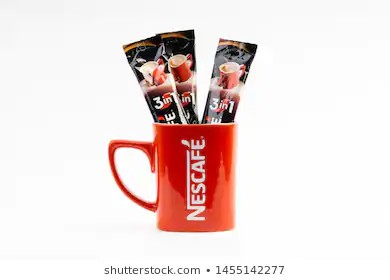nescafe-caffe: (123, 34, 188, 121), (199, 37, 257, 124), (161, 27, 199, 124)
nescafe-mug: (104, 123, 244, 234)
